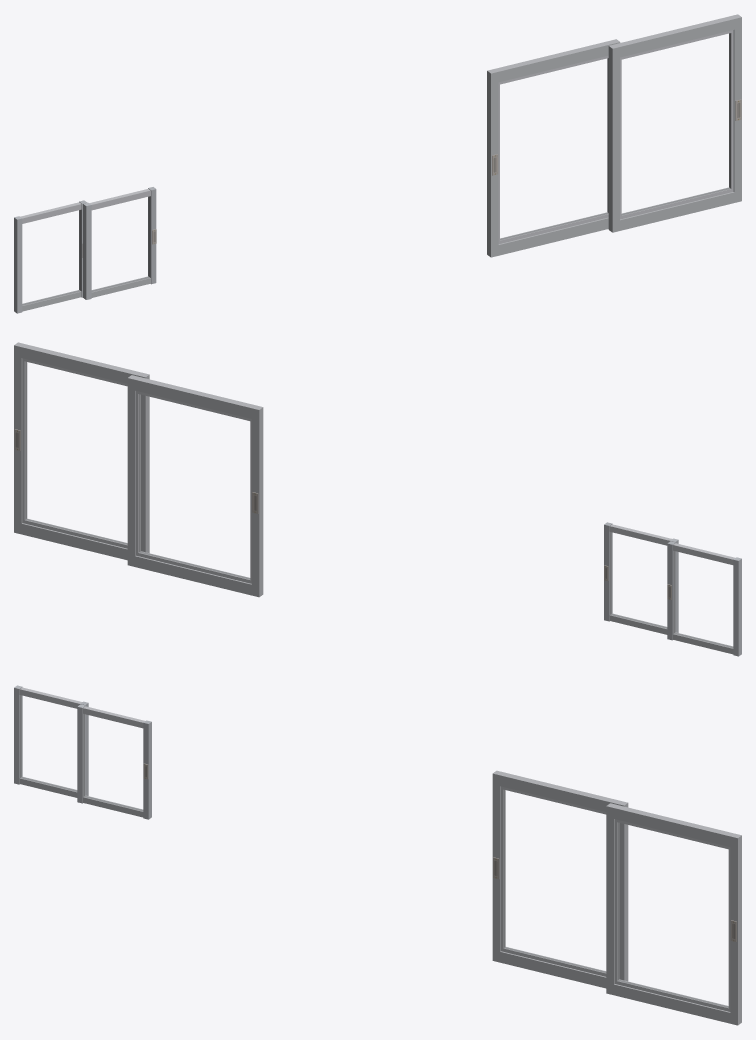
File: kd_stage_135d18_4_101_bounded.glb
3 views of the same model, one above another, from view 1: azimuth 30°, elevation 25°; view 2: azimuth 150°, elevation 25°; view 3: azimuth 330°, elevation 25° (orthographic).
Parts seen in each view (by area): view 1: kd_stage_135d18_4_101_bounded; view 2: kd_stage_135d18_4_101_bounded; view 3: kd_stage_135d18_4_101_bounded.
Part boxes in pixels (x1=…): kd_stage_135d18_4_101_bounded: x1=14, y1=14, x2=741, y2=313; kd_stage_135d18_4_101_bounded: x1=14, y1=342, x2=741, y2=656; kd_stage_135d18_4_101_bounded: x1=14, y1=685, x2=741, y2=1025.
Bounding box in the file's own units: 5.2 × 1.27 × 0.1354.
Materials: 1 (1 with a texture image).
